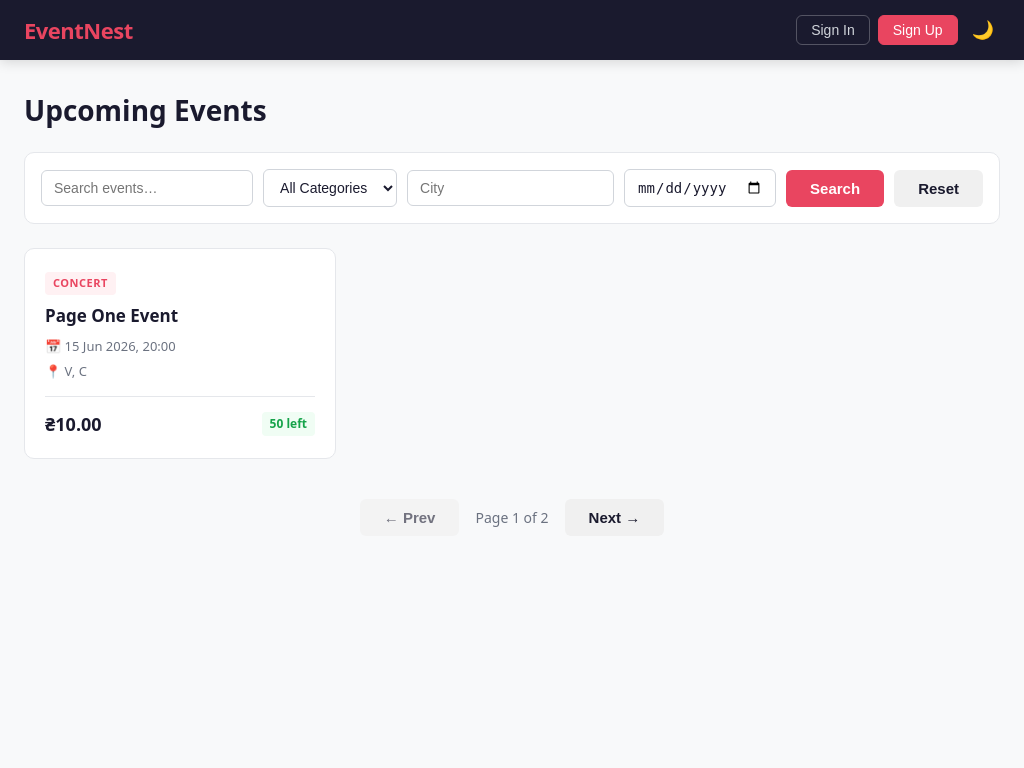
Test: HomePage › navigates to the next page when Next is clicked
This screenshot has width=1024, height=768.
expect the heading "Page One Event" is shown: met, box [45,304,178,327]
Click the button "Next →".
click(614, 518)  # box [564,499,664,536]
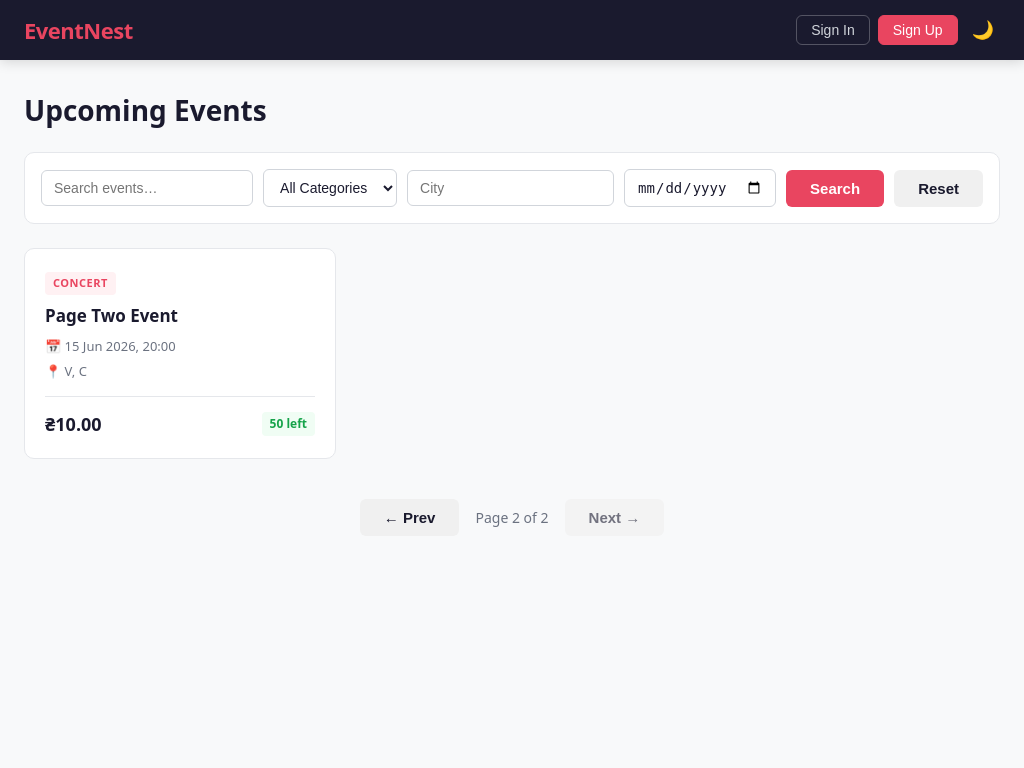
expect the heading "Page Two Event" is shown: met, box [45,304,178,327]
